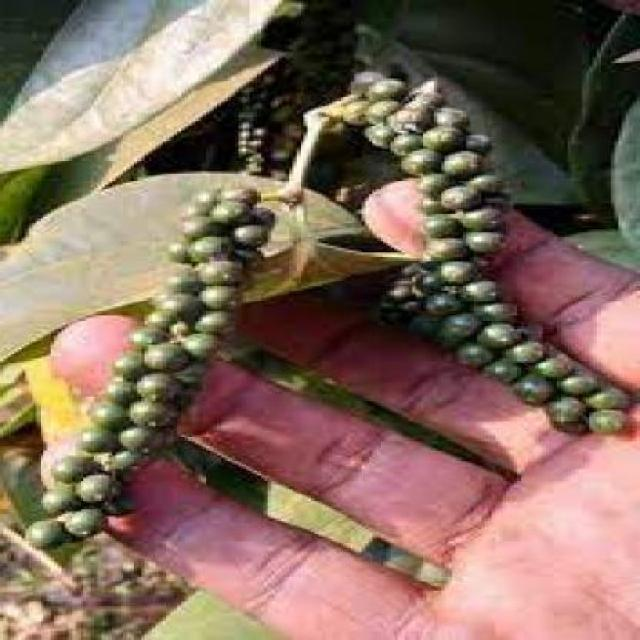UNRIPE: (37, 172, 265, 526), (373, 83, 582, 431)
